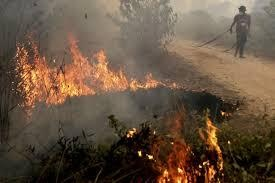fire: (11, 35, 164, 101), (136, 112, 227, 183)
